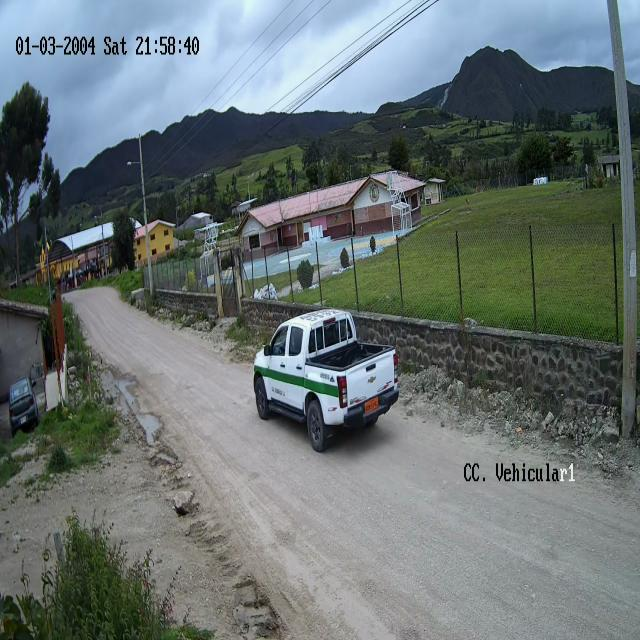CMT: (254, 309, 399, 451)
